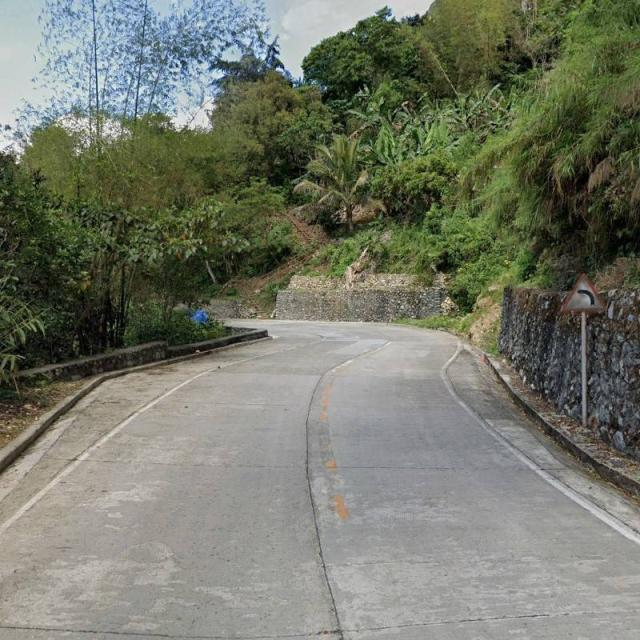warn_left_curve: (562, 273, 605, 311)
